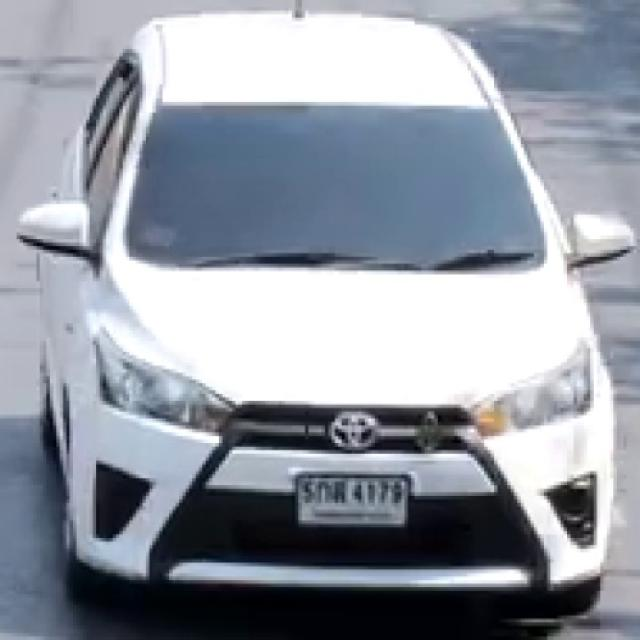plate: (294, 475, 408, 530)
